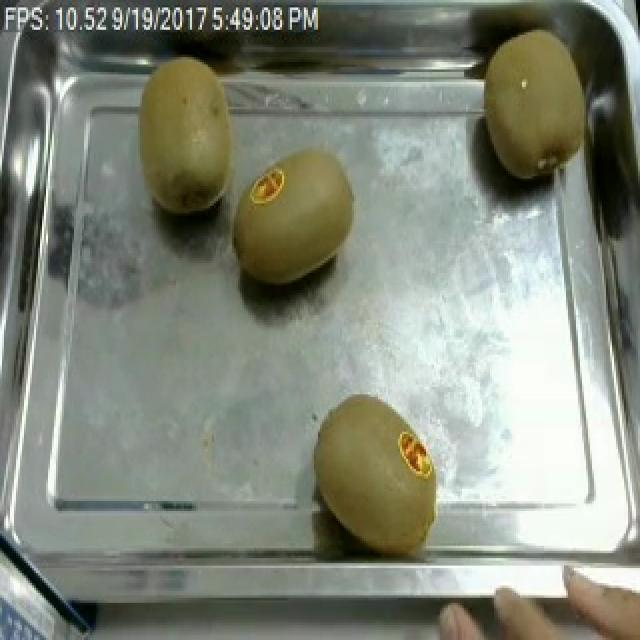Fruit: (304, 387, 452, 558), (474, 18, 602, 194), (218, 139, 364, 293), (124, 47, 248, 226)
